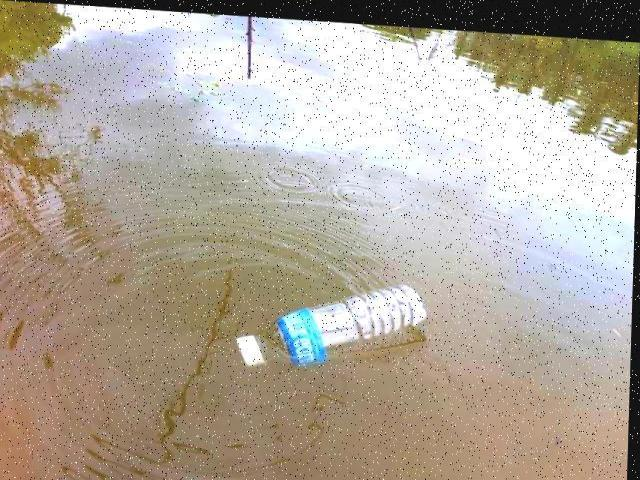Bottle: (226, 278, 441, 380)
